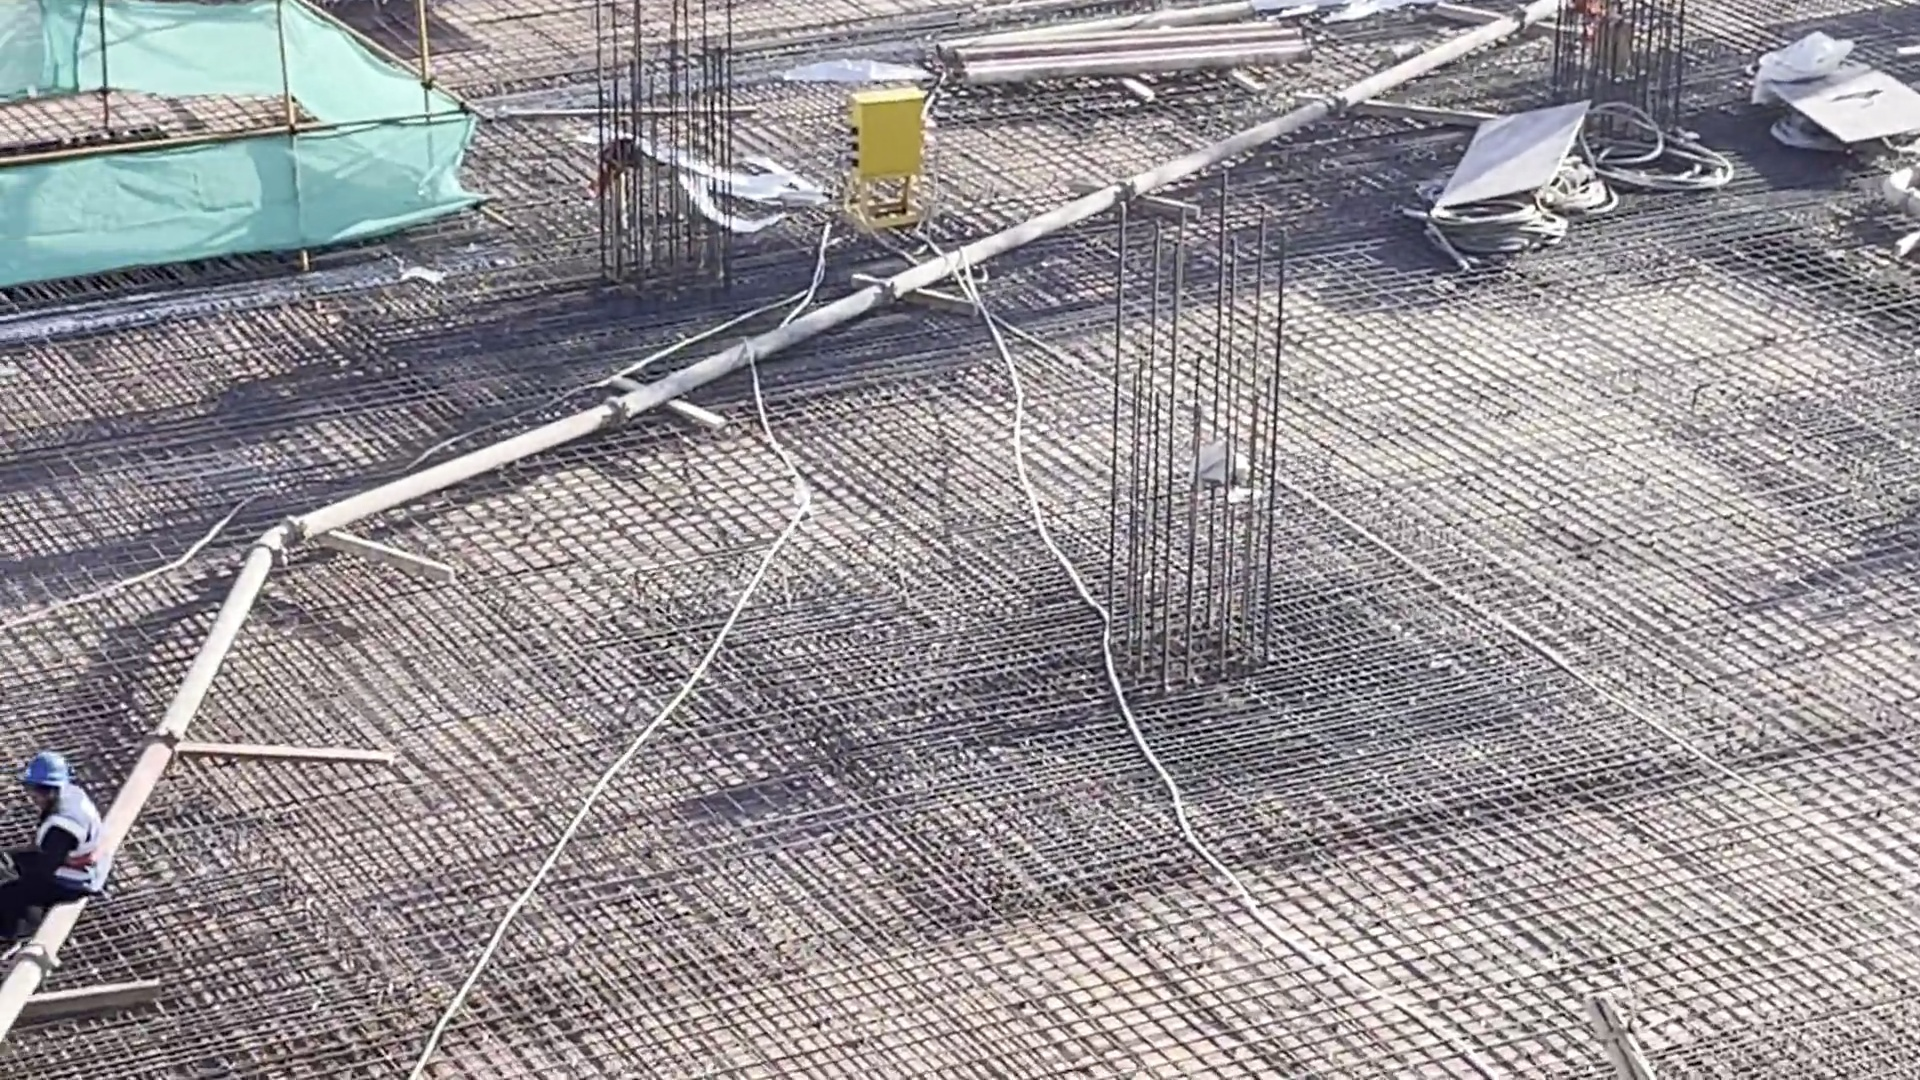helmet: (19, 753, 66, 784)
person: (1, 746, 97, 904)
vest: (33, 797, 102, 884)
